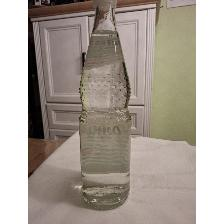Wasser: (79, 0, 133, 212)
